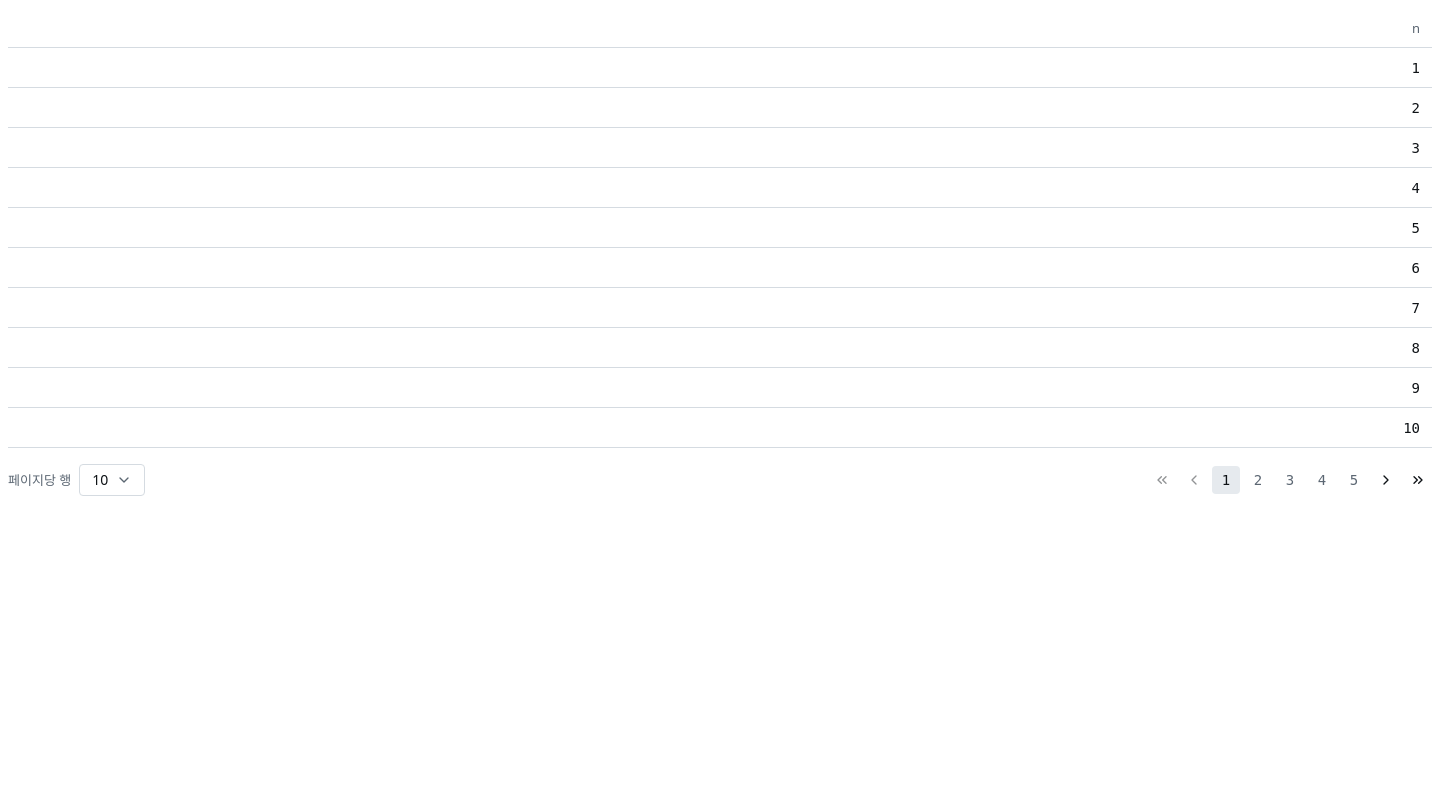
Test: Pagination › DataGrid 클라이언트: rows를 나누고, 행 수를 바꾸면 1페이지로
Click the button named "5페이지" at (1354, 480), box [1340,466,1368,494]
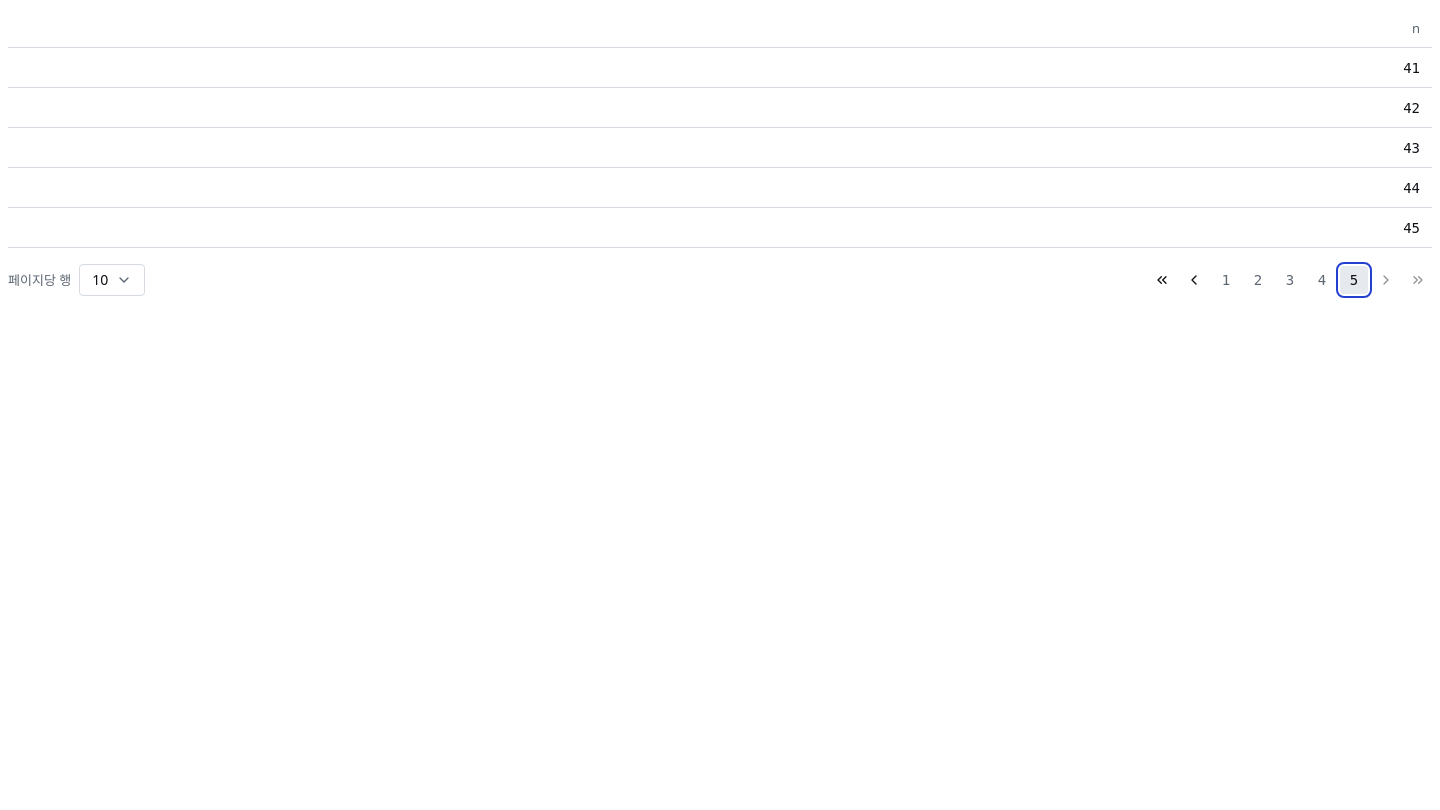
Click the dropdown named "페이지당 행" at (112, 280), box [79,264,145,296]
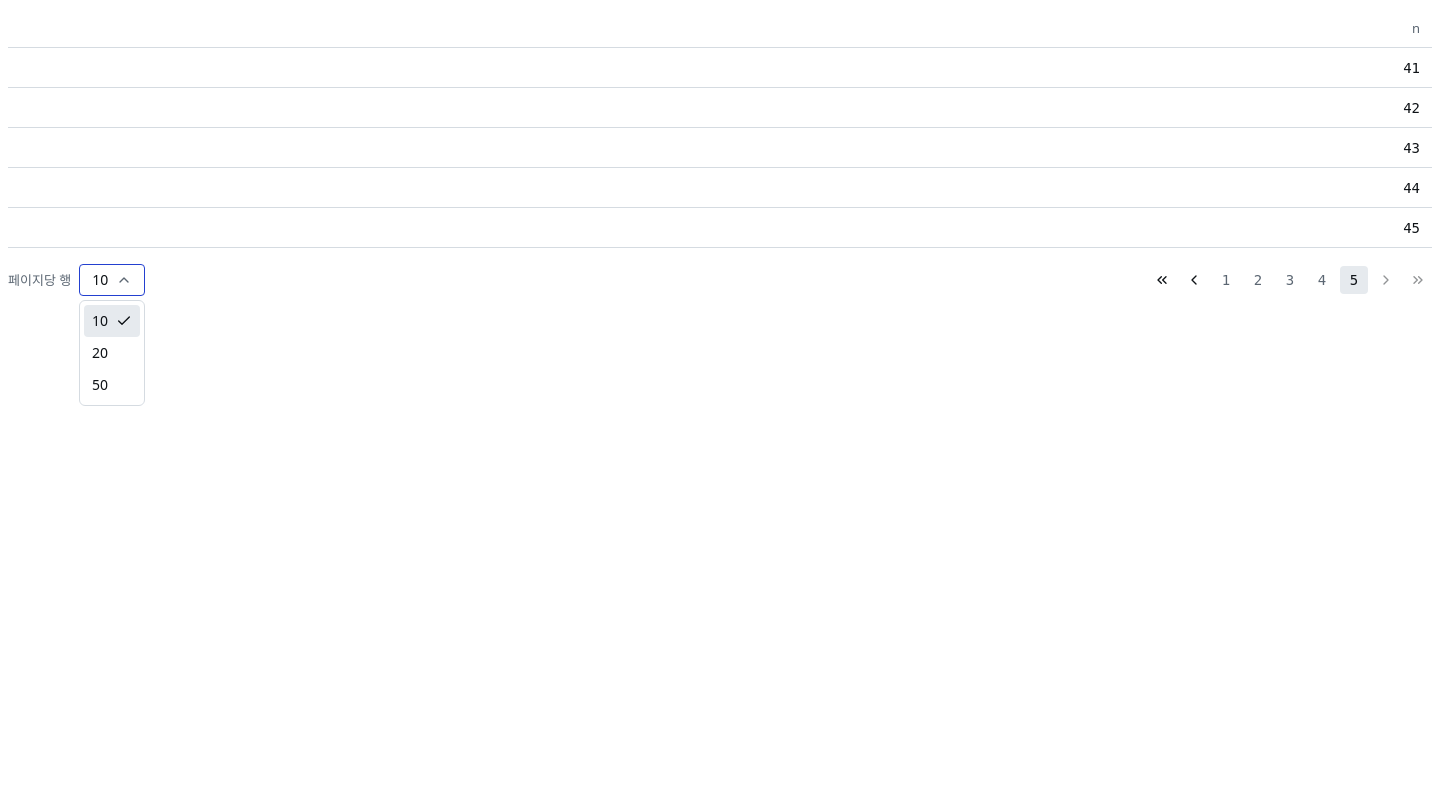
Click the option "20" at (100, 352), box [92,343,108,362]
(page scrolled)
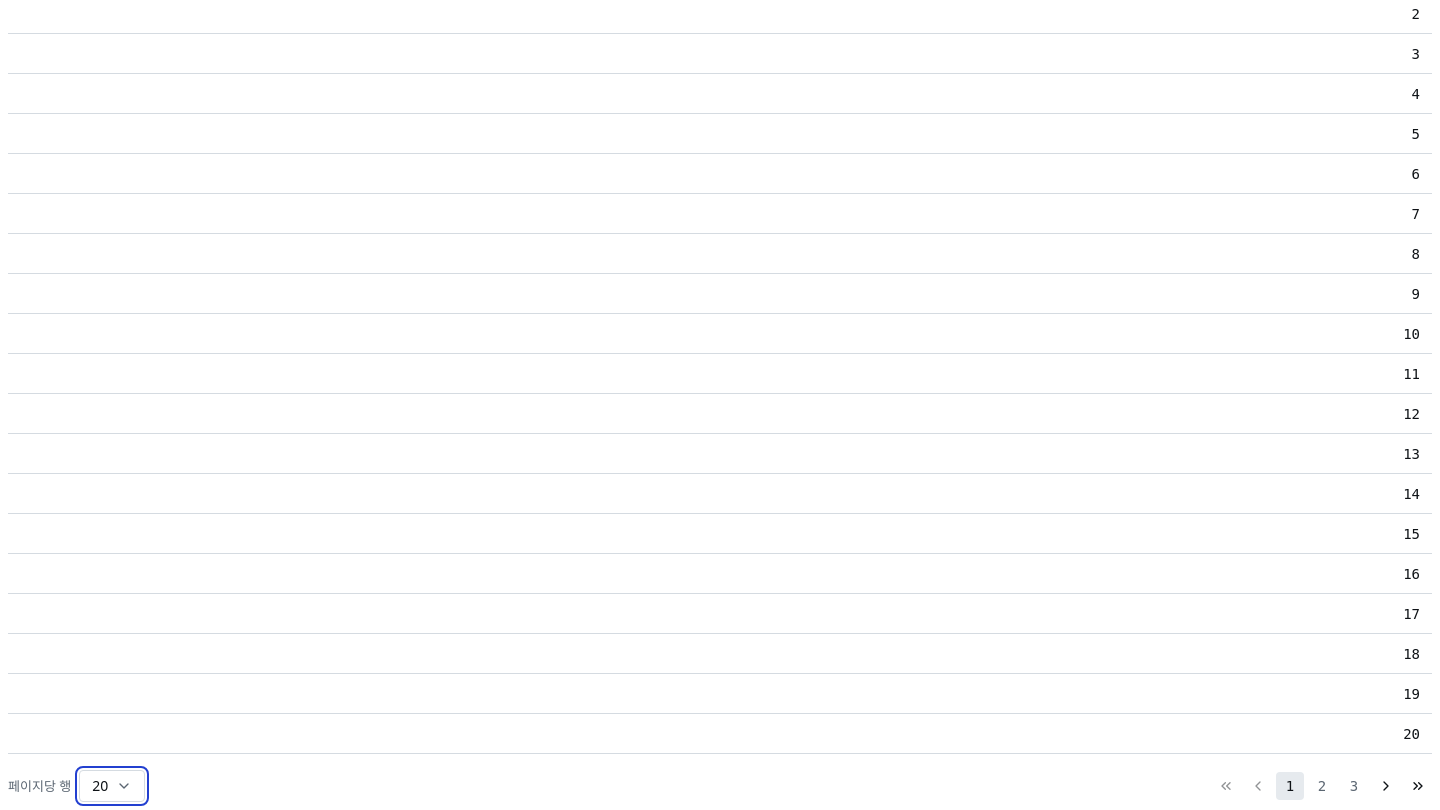
Check: the number of rows is 21
